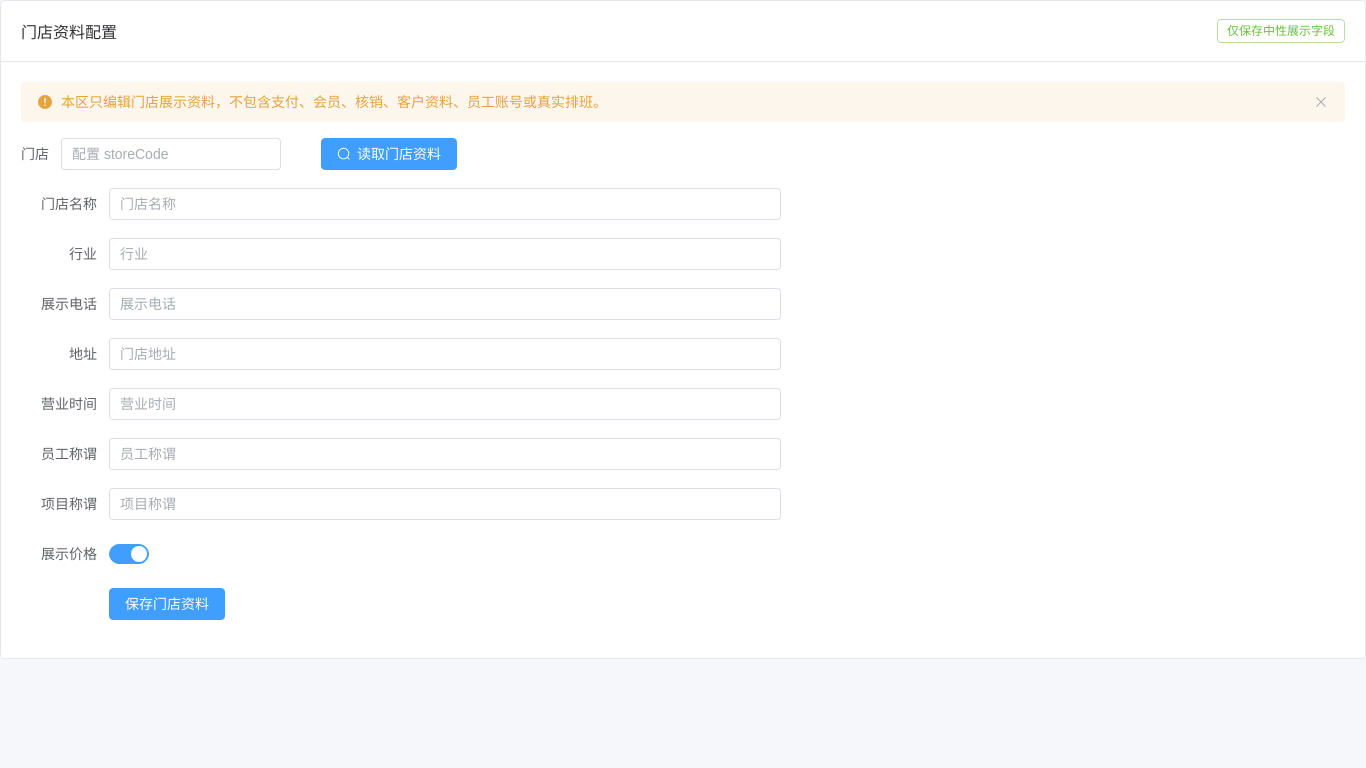
StoreAppointmentStoreProfilePanel › saves neutral store profile draft with request id
In the field with placeholder "配置 storeCode": (171, 154) [72,139,270,169], type "store-config-001"
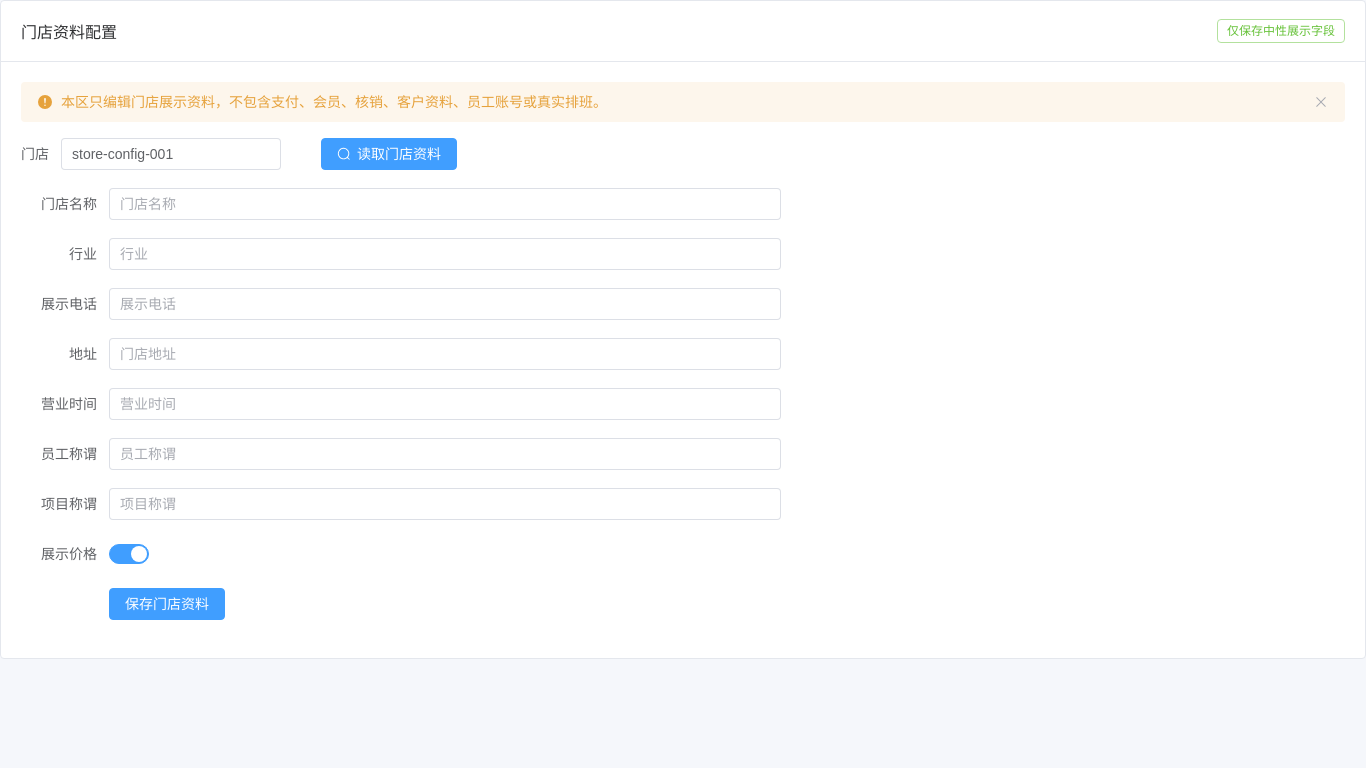
Click the button "读取门店资料": (389, 154) [321,138,457,170]
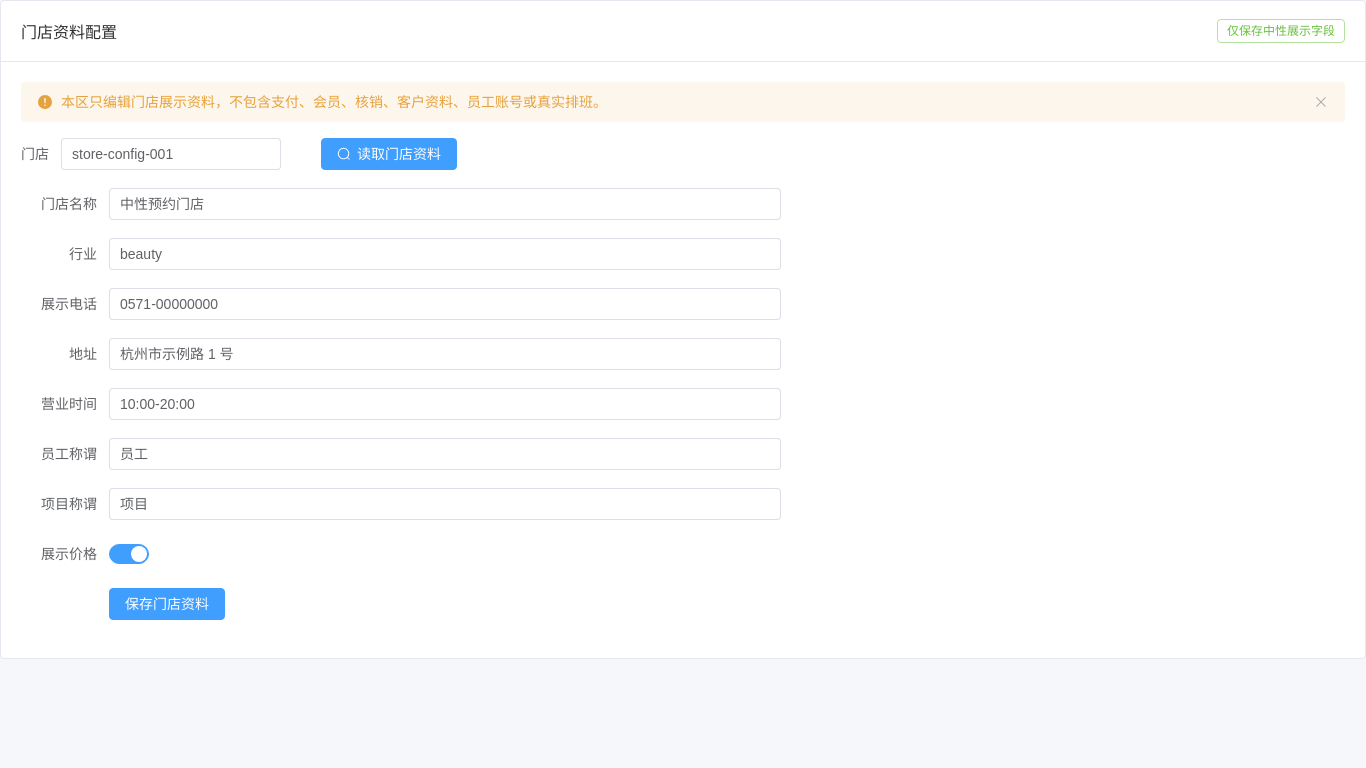
Replace the text in the field with placeholder "门店名称" with "新门店名": (445, 204) [120,189,770,219]
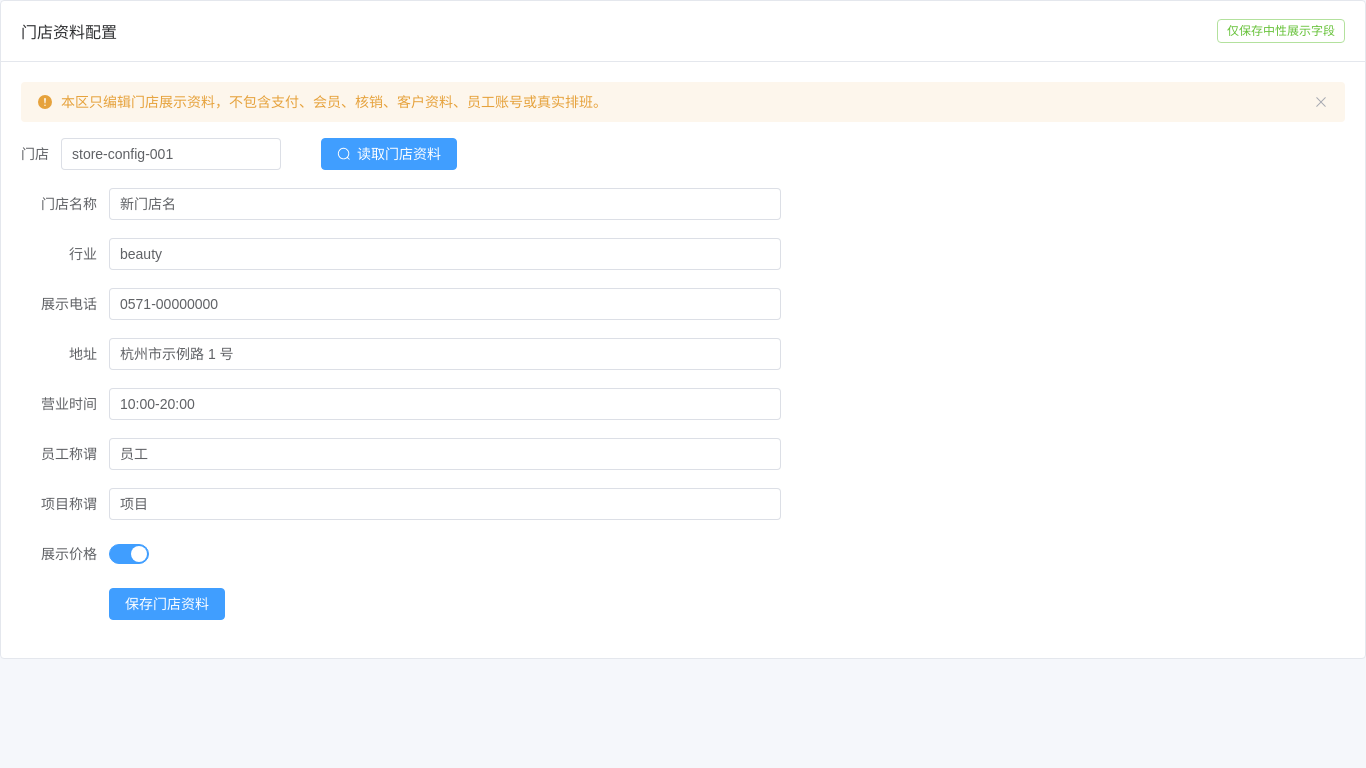
Replace the text in the field with placeholder "展示电话" with "0571-00000001": (445, 304) [120,289,770,319]
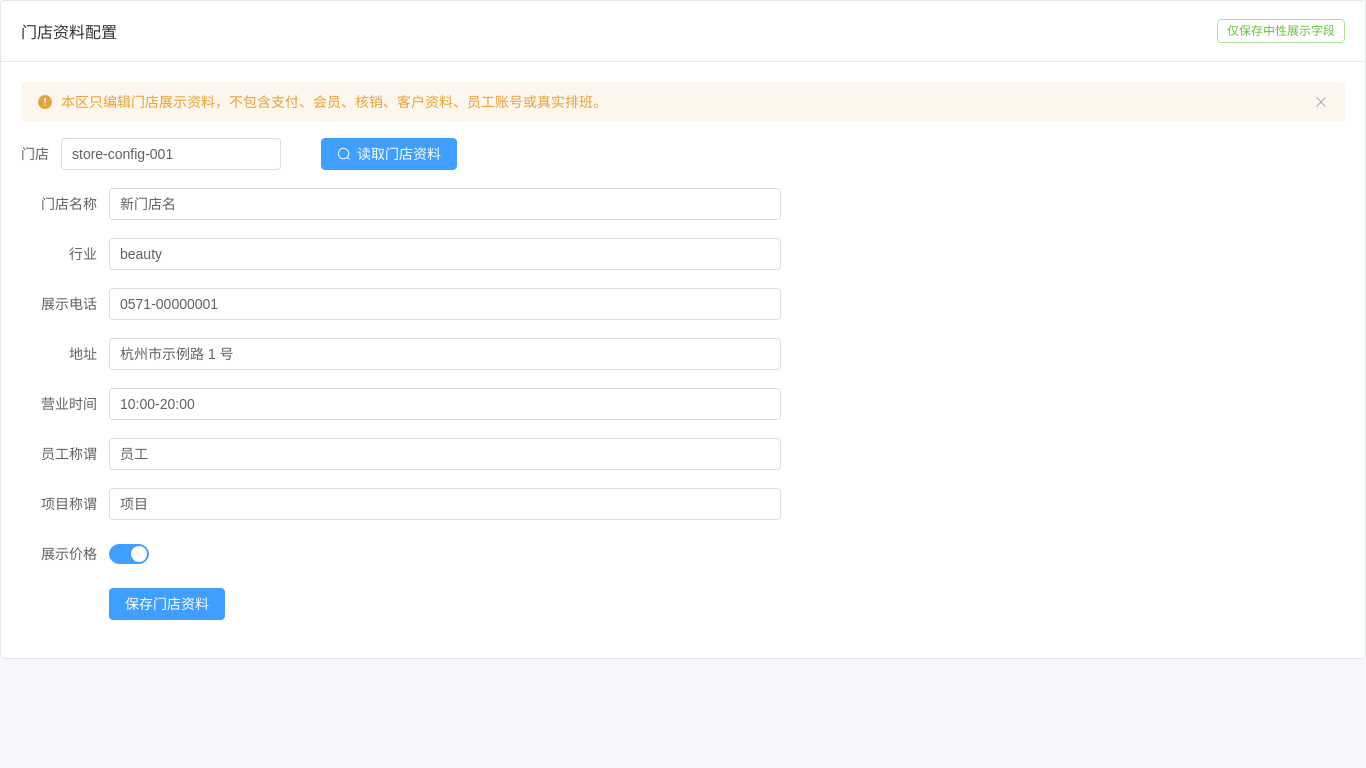
Click the button "保存门店资料": (167, 604) [109,588,225,620]
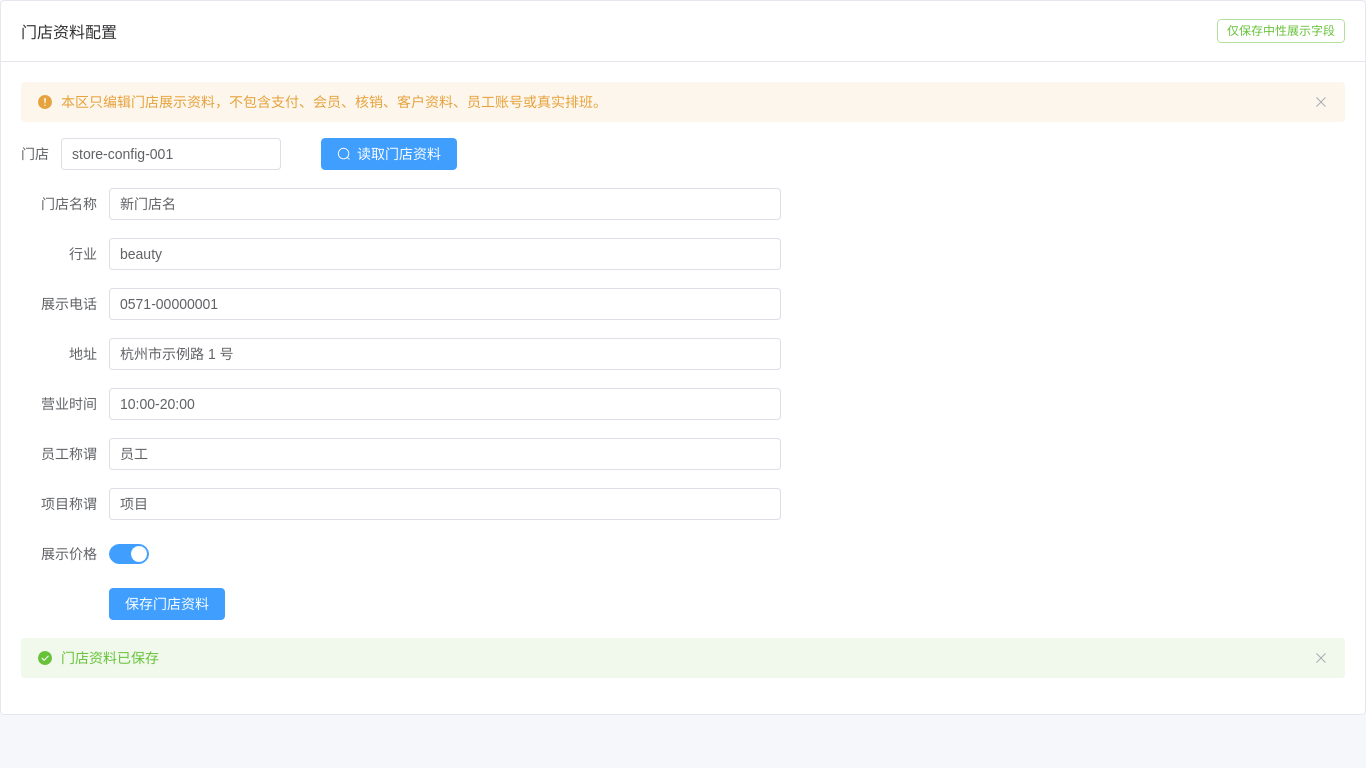
expect the text "门店资料已保存" is shown: met, box [61,646,159,670]
